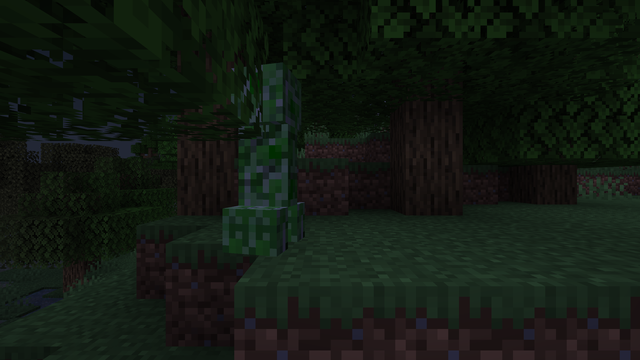creepers: (226, 53, 301, 251)
